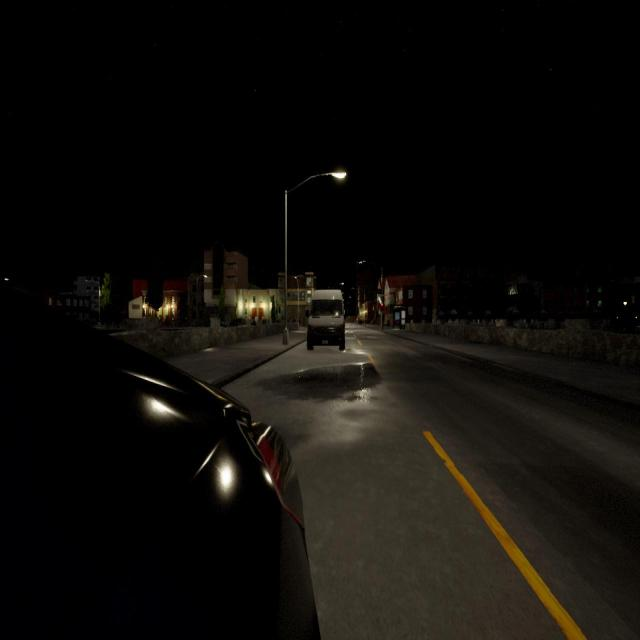Vehicle: (0, 285, 319, 638), (305, 290, 346, 350)
traffic_light: (381, 303, 383, 312)
